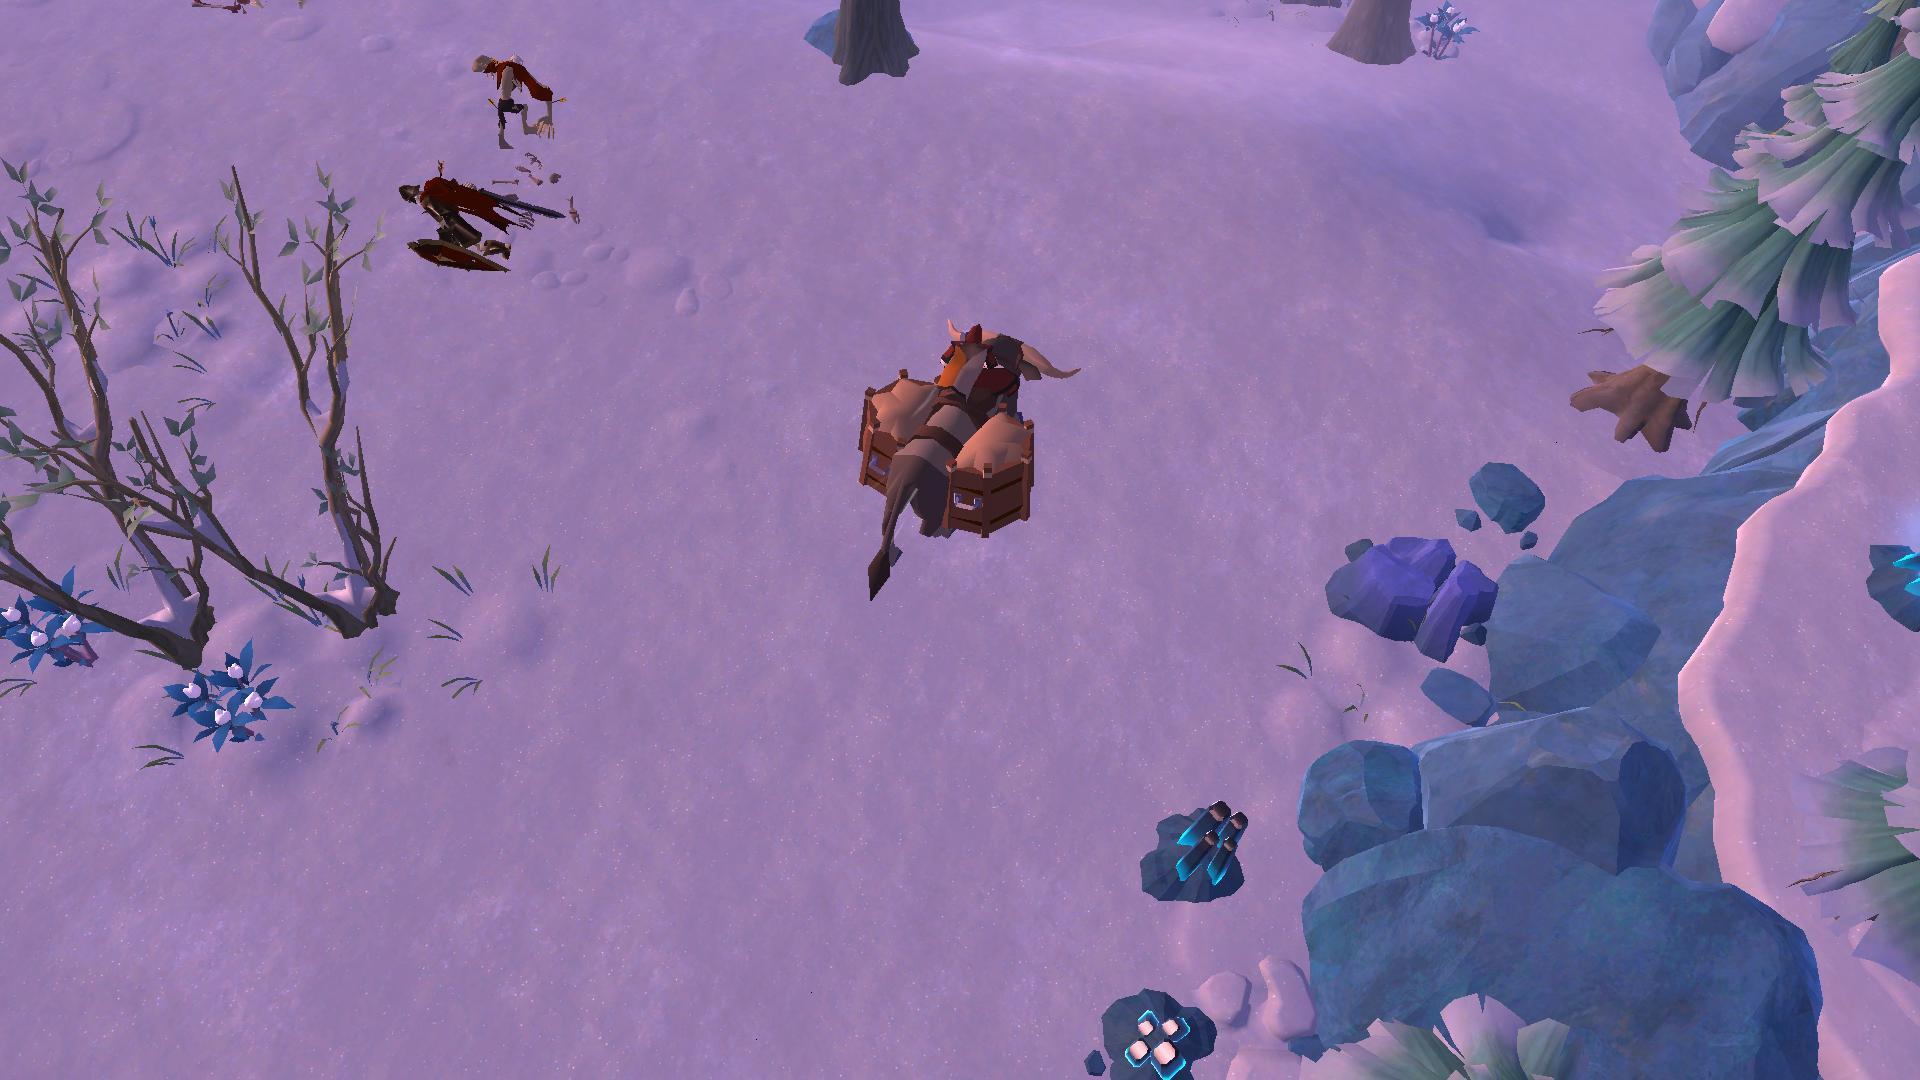enemy_factionUndead: (392, 166, 539, 284), (460, 38, 554, 142)
fiber_t4: (158, 650, 298, 764), (1, 572, 108, 682), (1412, 0, 1480, 67)
ore_t4: (1172, 795, 1247, 890)
rock_t4: (1329, 527, 1509, 655)
